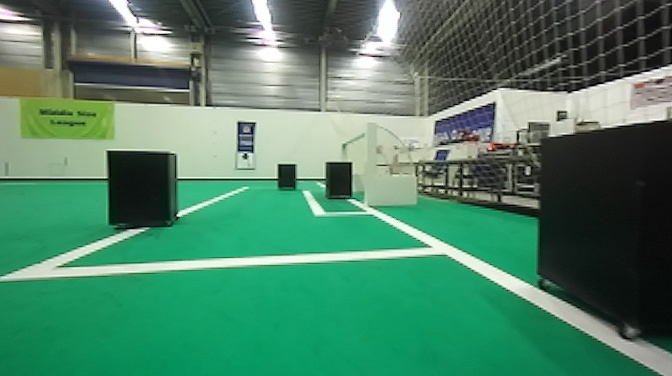goalpost: (359, 127, 373, 208), (339, 142, 349, 160)
